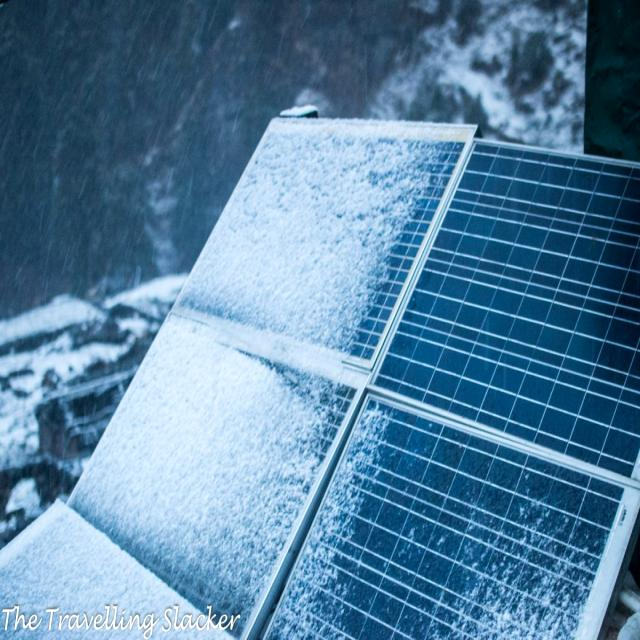panel: (209, 102, 405, 343), (0, 341, 120, 640), (147, 336, 286, 588), (293, 368, 386, 640), (443, 460, 582, 640)
